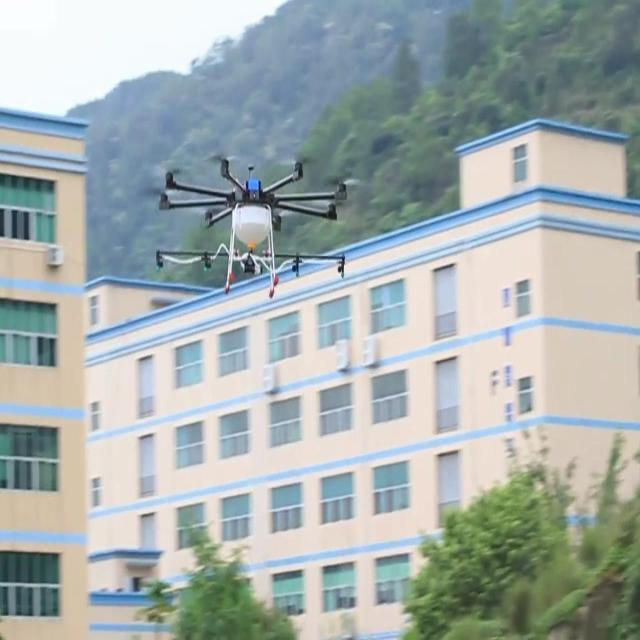drone: (155, 152, 348, 306)
